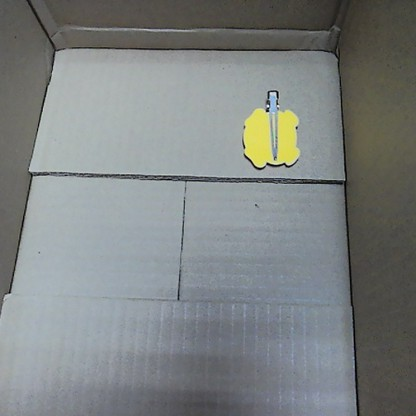dogclip: (239, 89, 300, 168)
